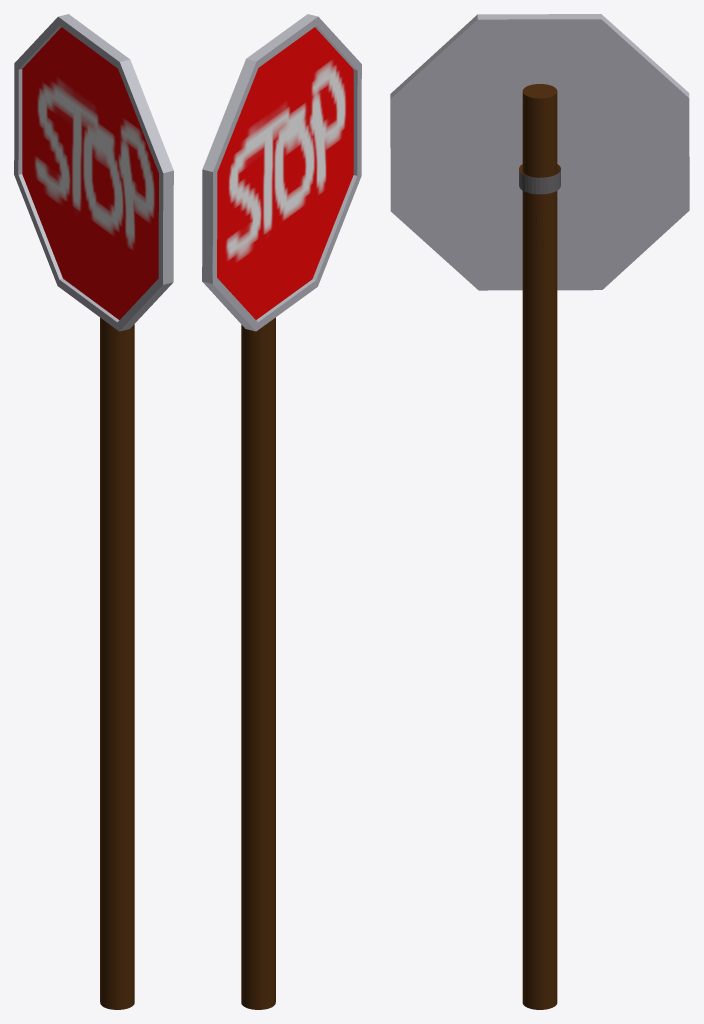
The model's file is sign.fbx.
3 views of the same model, side by side, from view 1: azimuth 30°, elevation 25°; view 2: azimuth 150°, elevation 25°; view 3: azimuth 270°, elevation 25° (orthographic).
Visible parts, largest first — view 1: sign; view 2: sign; view 3: sign.
Boxes of the visible parts, x1=… form: sign: x1=14, y1=14, x2=173, y2=1009; sign: x1=202, y1=14, x2=361, y2=1009; sign: x1=390, y1=14, x2=689, y2=1009.
Bounding box in the file's own units: 33.57 × 665 × 185.
